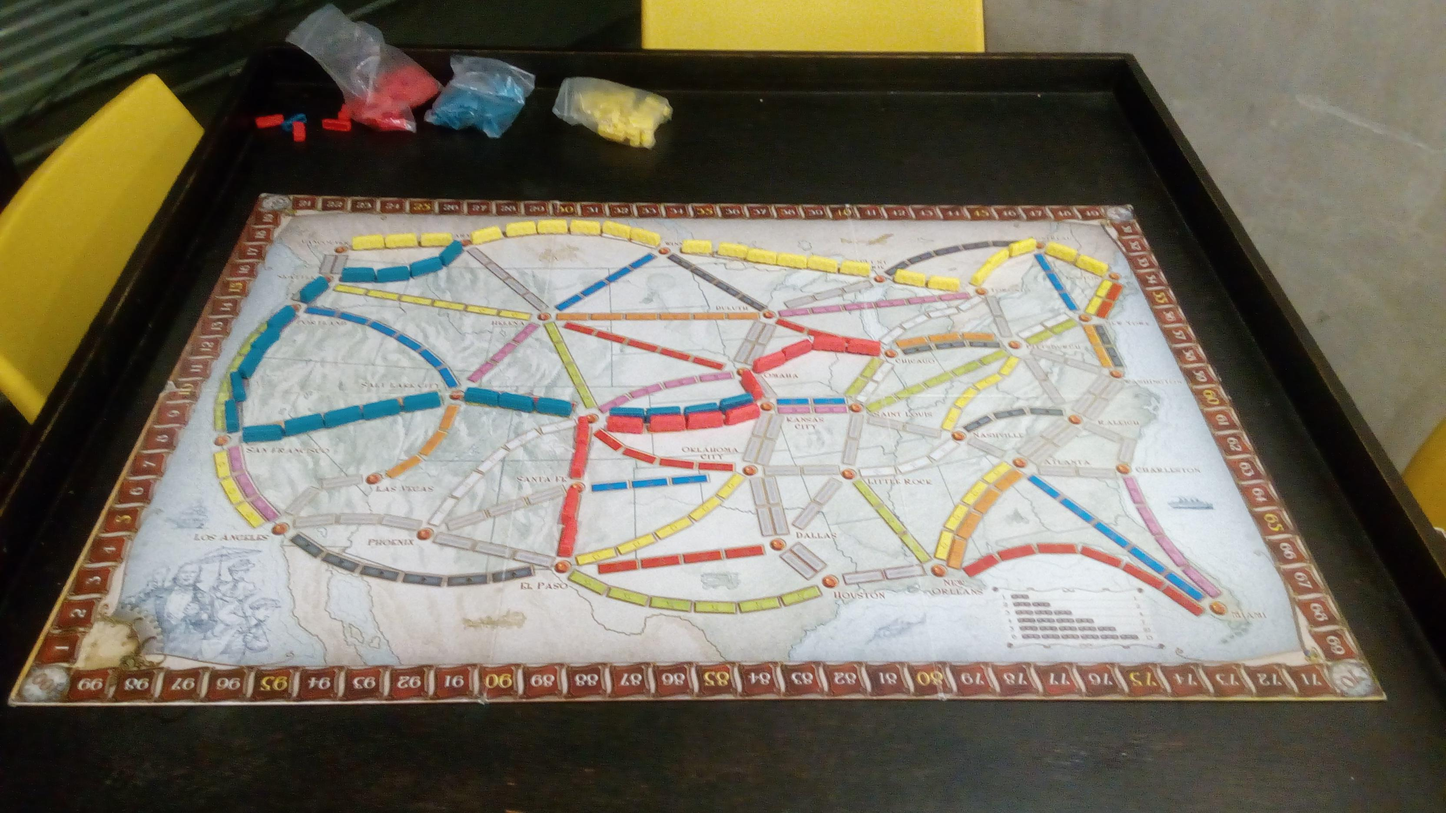corner_bl: (18, 664, 73, 699)
corner_br: (1327, 660, 1384, 697)
corner_tl: (257, 195, 292, 214)
corner_tr: (1102, 204, 1139, 224)
